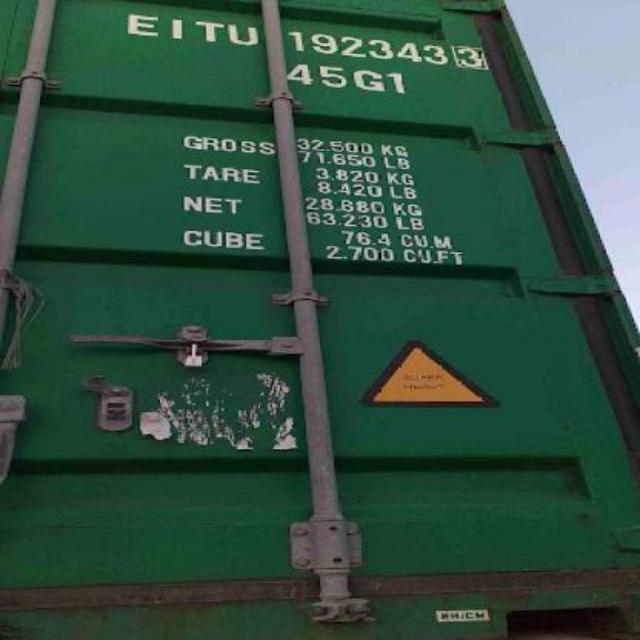1: (284, 26, 308, 54)
2: (338, 28, 368, 62)
3: (448, 42, 482, 68), (424, 37, 450, 67), (368, 34, 389, 62)
4: (396, 33, 422, 63)
9: (310, 26, 338, 58)
E: (120, 8, 164, 42)
I: (166, 13, 190, 49)
T: (190, 13, 223, 51)
U: (224, 17, 260, 53)
